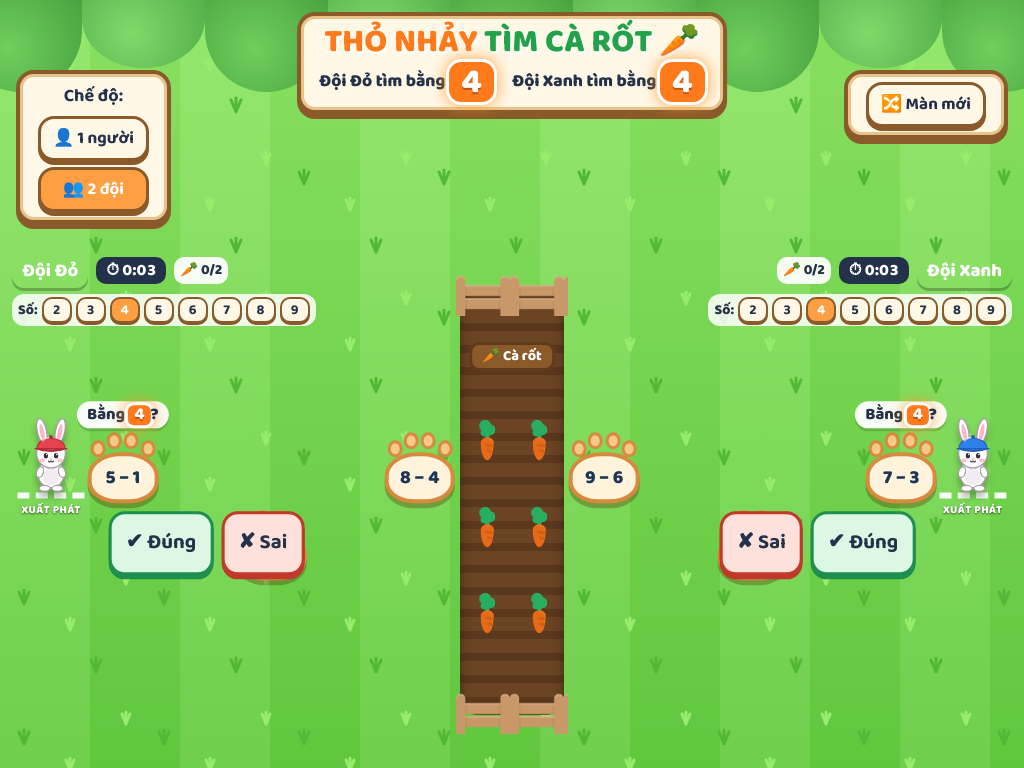
Test: màn kết thúc › mỗi đội có nút chọn số riêng
The image size is (1024, 768).
Click the 2nd button "7". click: (923,310)
box: [908,297,938,323]
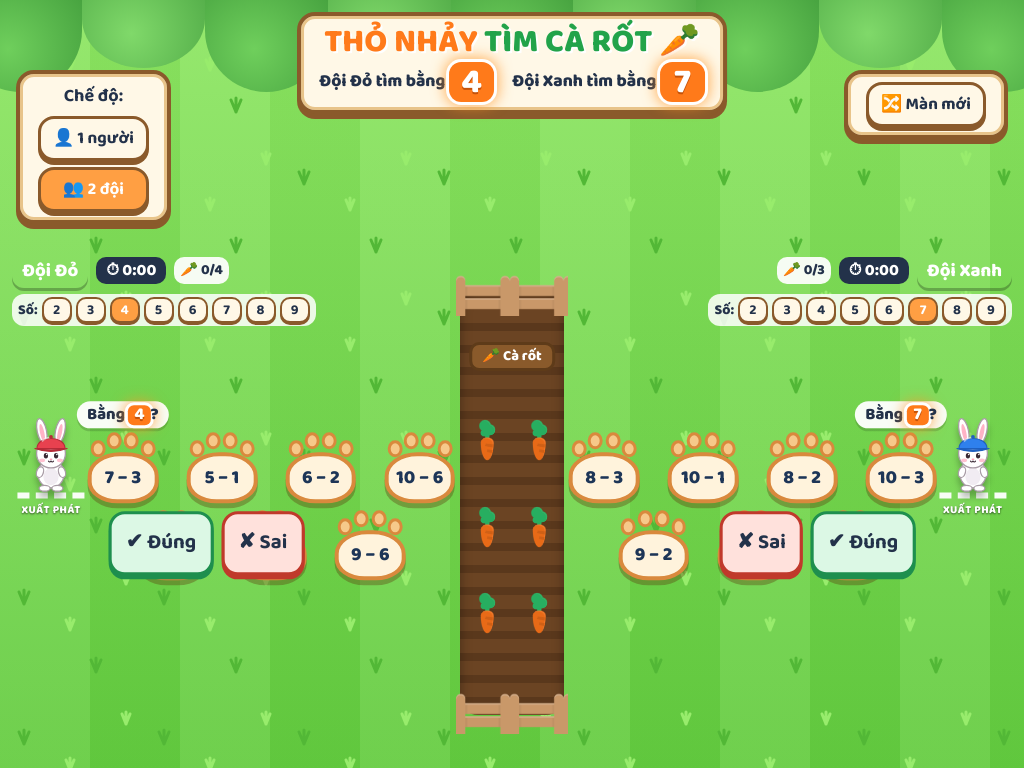
Result: the text "Đội Xanh tìm bằng 7" is shown at [512,62,705,102]
